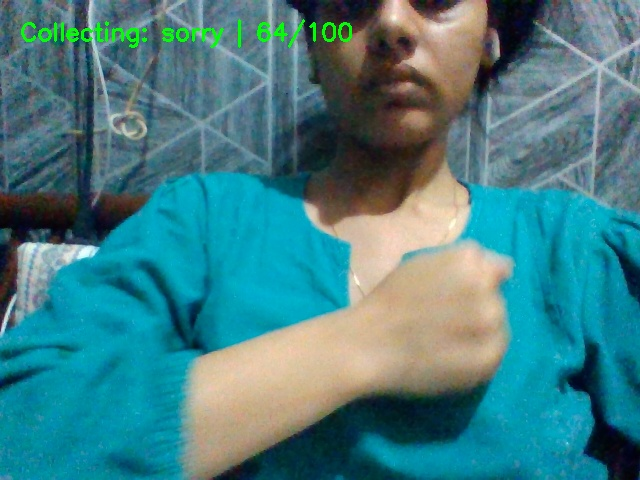sorry: (323, 227, 557, 401)
